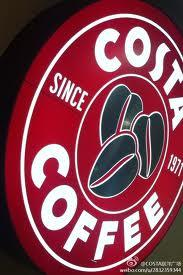costa_coffee: (9, 1, 178, 272)
